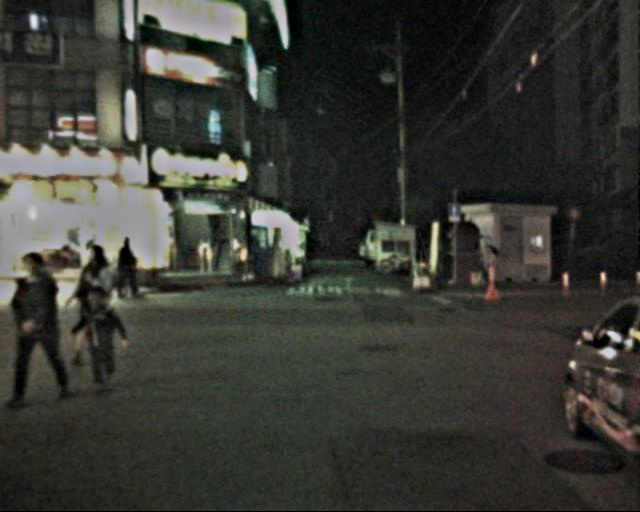person: (69, 240, 125, 365), (79, 280, 126, 392), (116, 225, 144, 303), (474, 237, 498, 292)
